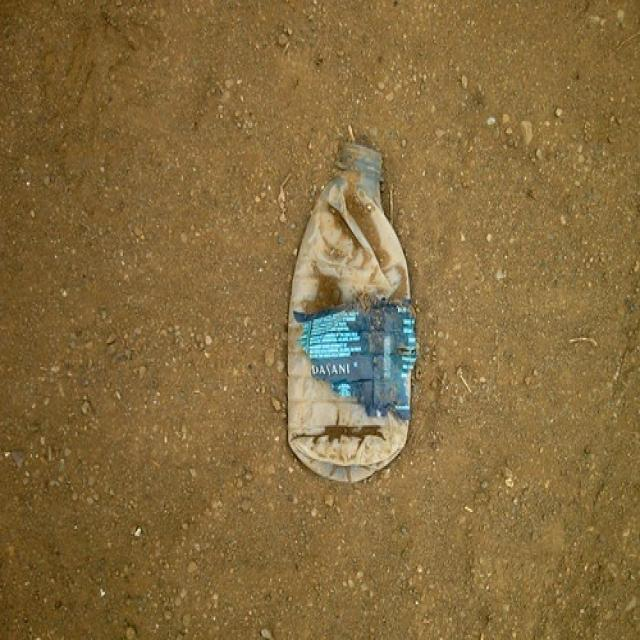plastic_bottle: (288, 144, 413, 483)
